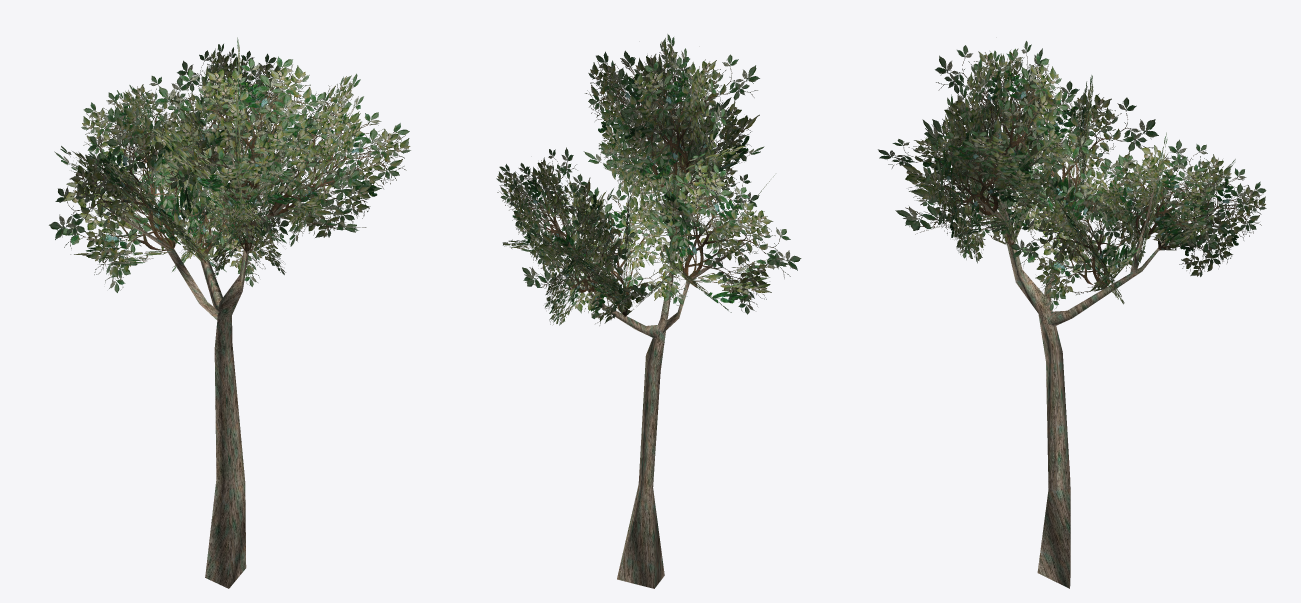
The model's file is decd_dogwoodtreeleaves_a1_l1.fbx.
3 renders of one model, left to right at view 1: azimuth 30°, elevation 25°; view 2: azimuth 150°, elevation 25°; view 3: azimuth 270°, elevation 25°, orthographic. The views are drawn at different scales.
Visible parts, largest first — view 1: mesh_node; view 2: mesh_node; view 3: mesh_node.
Boxes of the visible parts, x1=… form: mesh_node: x1=49, y1=37, x2=410, y2=588; mesh_node: x1=496, y1=34, x2=801, y2=588; mesh_node: x1=878, y1=41, x2=1266, y2=588.
Size of the model in its own units: 13.28 by 21.1 by 15.36.
